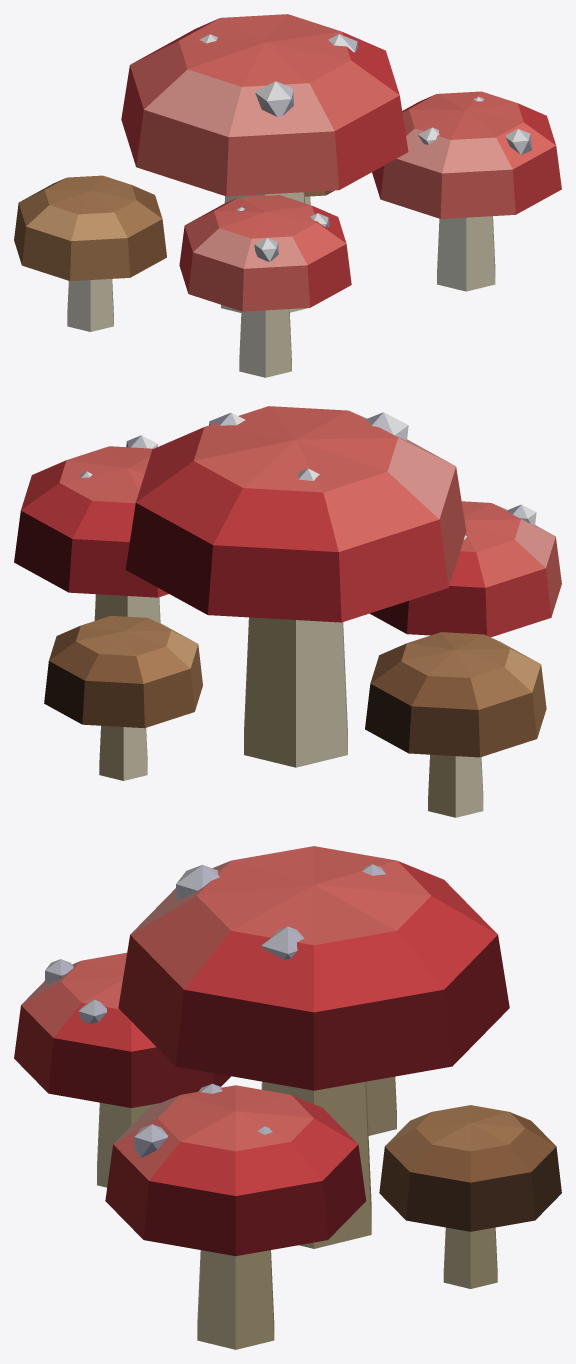
Rendered from mushrooms.glb.
3 views of the same model, one above another, from view 1: azimuth 30°, elevation 25°; view 2: azimuth 150°, elevation 25°; view 3: azimuth 270°, elevation 25° (orthographic). The views are drawn at different scales.
Parts seen in each view (by area): view 1: mushrooms; view 2: mushrooms; view 3: mushrooms.
Part boxes in pixels (bbox=[...]): mushrooms: bbox=[14, 14, 561, 377]; mushrooms: bbox=[14, 406, 561, 817]; mushrooms: bbox=[14, 846, 561, 1349].
Size of the model in its own units: 0.56 by 0.284 by 0.42.
